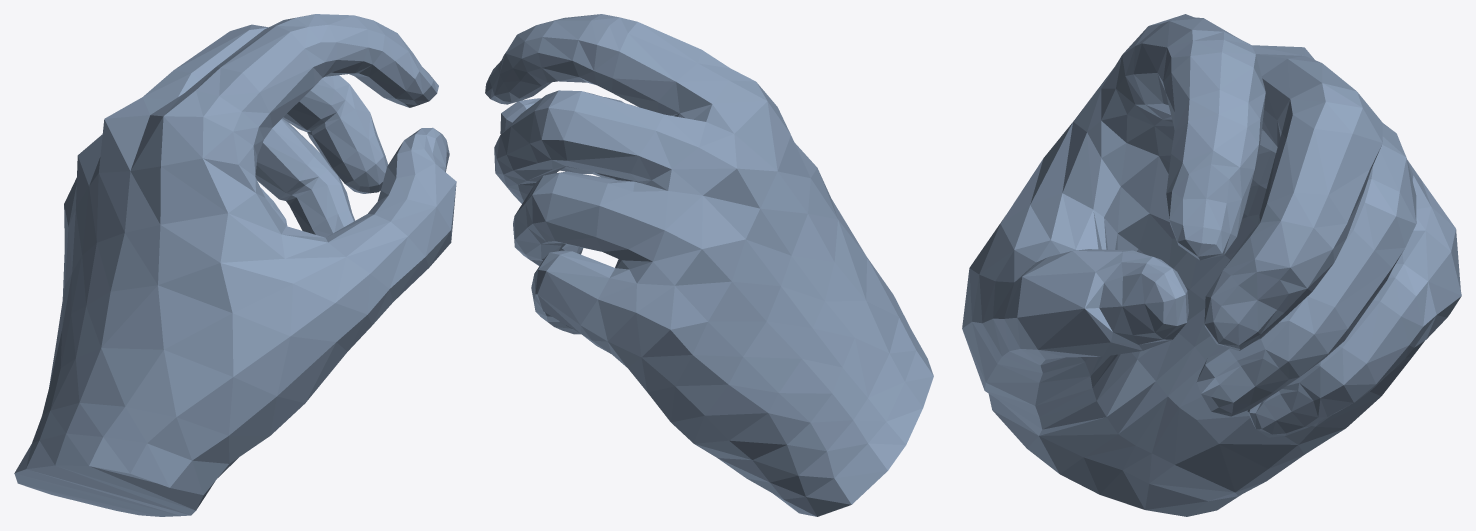
3 renders of one model, left to right at view 1: azimuth 30°, elevation 25°; view 2: azimuth 150°, elevation 25°; view 3: azimuth 270°, elevation 25°, orthographic. The views are drawn at different scales.
Size of the model in its own units: 0.127 by 0.1299 by 0.1.
